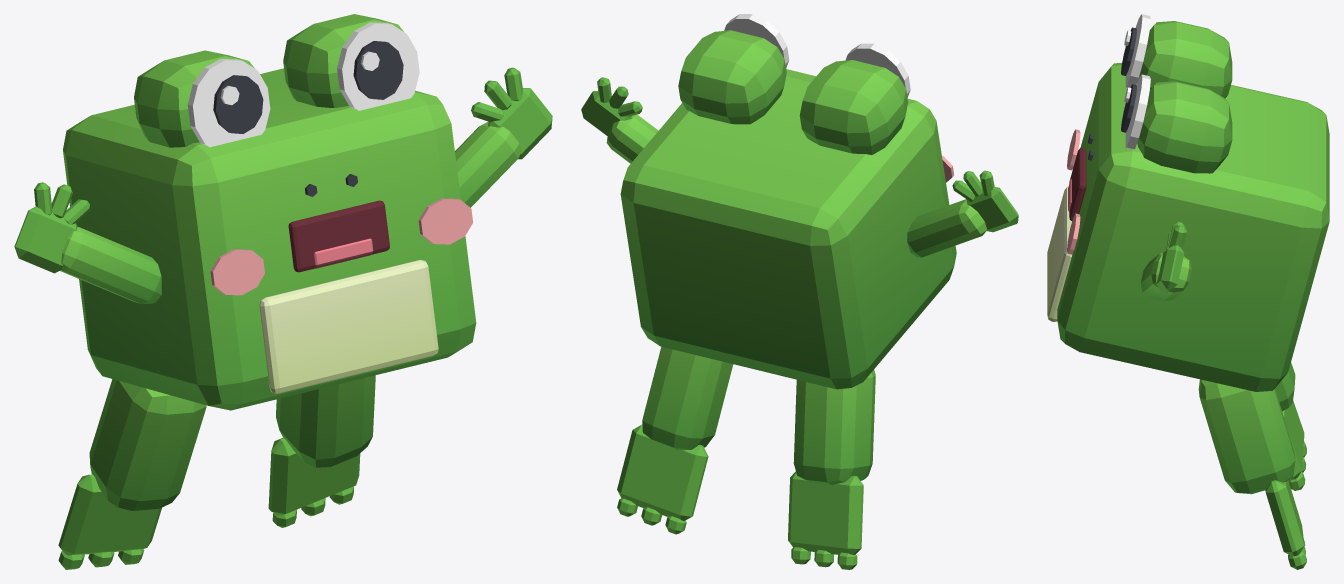
File: frog_jump.glb
The picture shows the model from 3 angles, left to right: view 1: azimuth 30°, elevation 25°; view 2: azimuth 150°, elevation 25°; view 3: azimuth 270°, elevation 25°; orthographic projection. The views are drawn at different scales.
Parts seen in each view (by area): view 1: body, leg-back-right, leg-back-left, leg-front-right, leg-front-left; view 2: body, leg-back-right, leg-back-left, leg-front-right, leg-front-left; view 3: body, leg-back-left, leg-front-left, leg-back-right.
Part boxes in pixels (left/top/right/bottom): body: left=63, top=14, right=476, bottom=410; leg-back-right: left=58, top=379, right=206, bottom=569; leg-back-left: left=268, top=375, right=375, bottom=527; leg-front-right: left=14, top=182, right=161, bottom=303; leg-front-left: left=455, top=67, right=552, bottom=207; body: left=620, top=14, right=956, bottom=389; leg-back-right: left=788, top=369, right=875, bottom=569; leg-back-left: left=617, top=346, right=733, bottom=534; leg-front-right: left=907, top=170, right=1018, bottom=257; leg-front-left: left=581, top=77, right=658, bottom=163; body: left=1047, top=14, right=1329, bottom=391; leg-back-left: left=1198, top=379, right=1306, bottom=569; leg-front-left: left=1140, top=222, right=1191, bottom=301; leg-back-right: left=1275, top=362, right=1306, bottom=490.
Bounding box in the file's own units: 2.37 × 2.41 × 1.3.
Materials: 1 (1 with a texture image).
